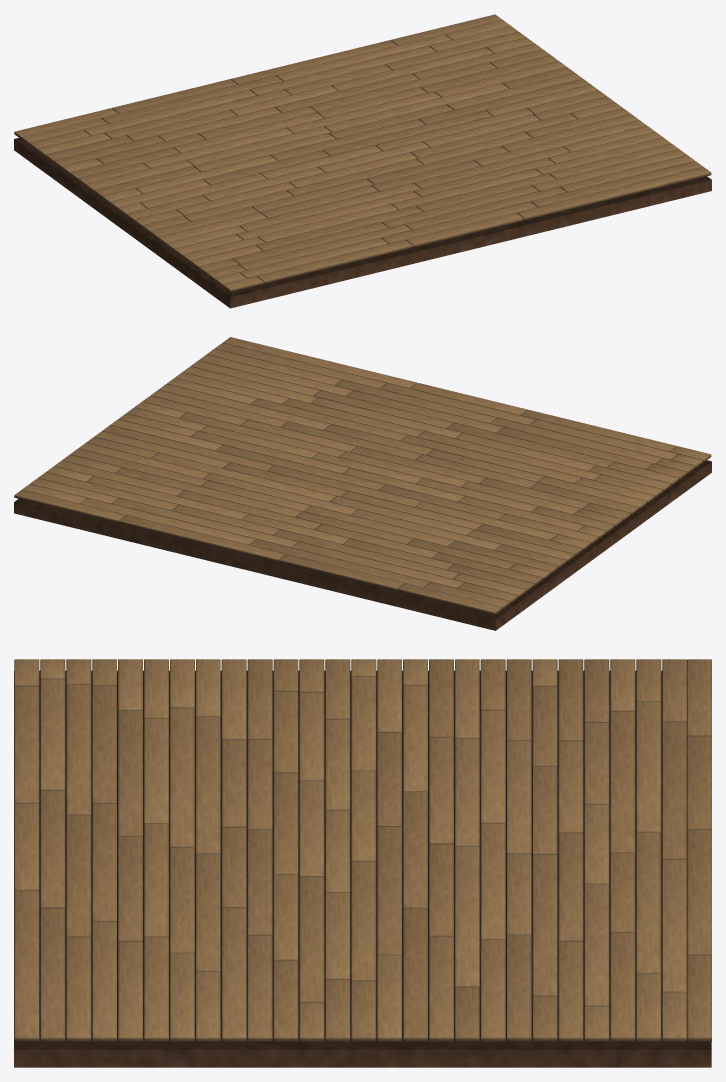
File: home_floor.glb
The picture shows the model from 3 angles, top to bottom: view 1: azimuth 30°, elevation 25°; view 2: azimuth 150°, elevation 25°; view 3: azimuth 270°, elevation 25°; orthographic projection. The views are drawn at different scales.
Parts seen in each view (by area): view 1: home_floor; view 2: home_floor; view 3: home_floor.
Part boxes in pixels (box(x1,y1,x2,y2)): home_floor: box(14, 14, 711, 308); home_floor: box(14, 337, 711, 630); home_floor: box(14, 659, 711, 1067).
Size of the model in its own units: 9 by 0.33 by 7.01.
1 material, 1 textured.
